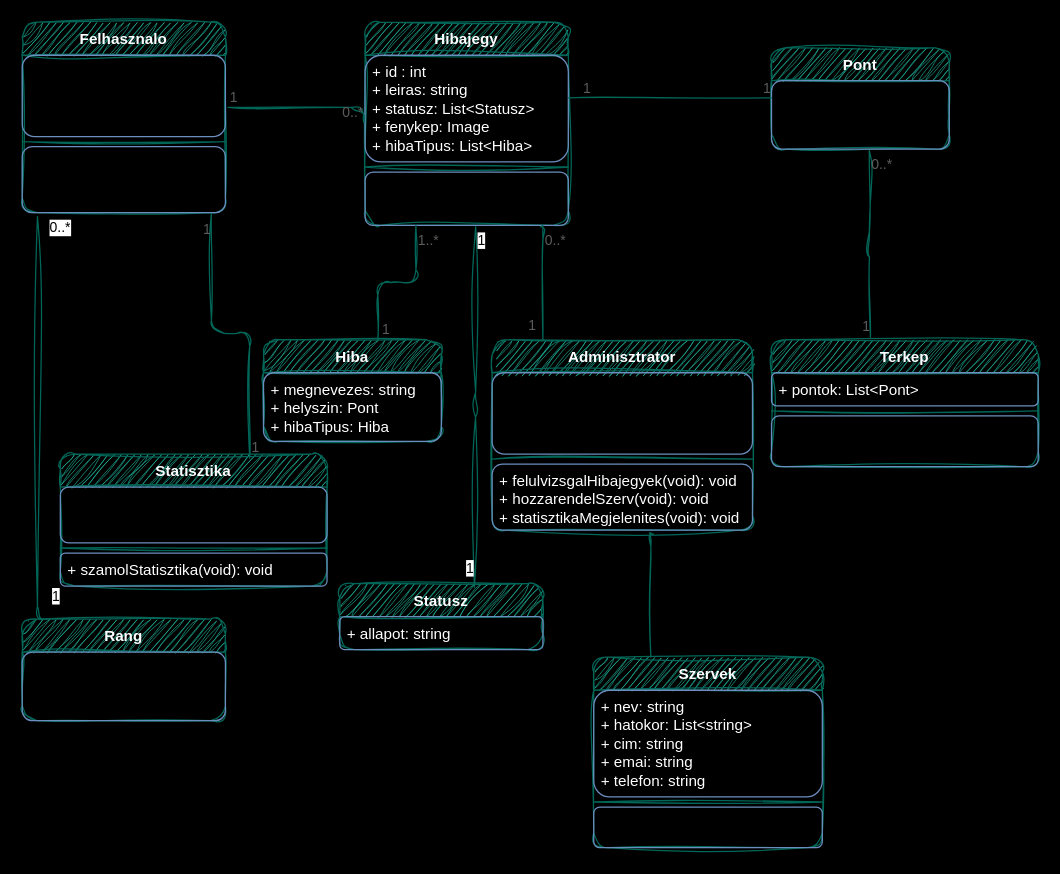
Image size: 1060x874. Some labels were removed from this diagram. Here are the shapes that lost their labels. From the top down, the centre of each, then its label:
the point at 123,95: + felhasznalonev: string + jelszo : string + email: string + telSzam: string
the point at 859,114: + szelesseg: float + hosszusag: float + magassag: float
the point at 123,179: + bejelent(void): void + statisztikaKi(void): void + hibajegyKovet(void): void
the point at 466,198: + hozzaadHiba(void): void + keresHibakat(void): void
the point at 621,412: + ID : int + nev: string + jelszo: string + email: string
the point at 904,441: + megjelolHelyszin(hiba): Hibajegy + keresHibakat(void): void
the point at 193,514: + bejelentettHiba: int + javitasAlattiHibak: int
the point at 123,686: + nev : string + bejelentettHiba: int + elfogadottHiba: int
the point at 707,827: + elfogadHibajegy(void): void
